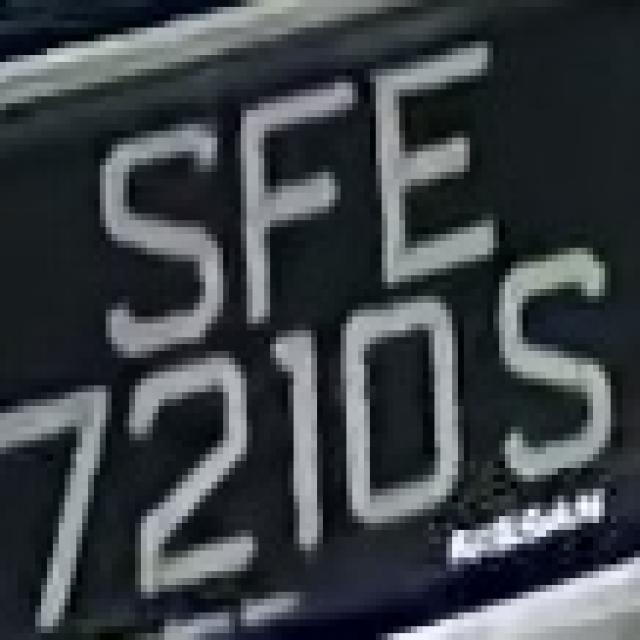0: (311, 262, 458, 564)
1: (264, 323, 341, 592)
2: (123, 344, 270, 599)
7: (18, 372, 118, 633)
E: (358, 27, 511, 296)
F: (217, 48, 358, 337)
S: (59, 96, 223, 365), (476, 234, 622, 489)
